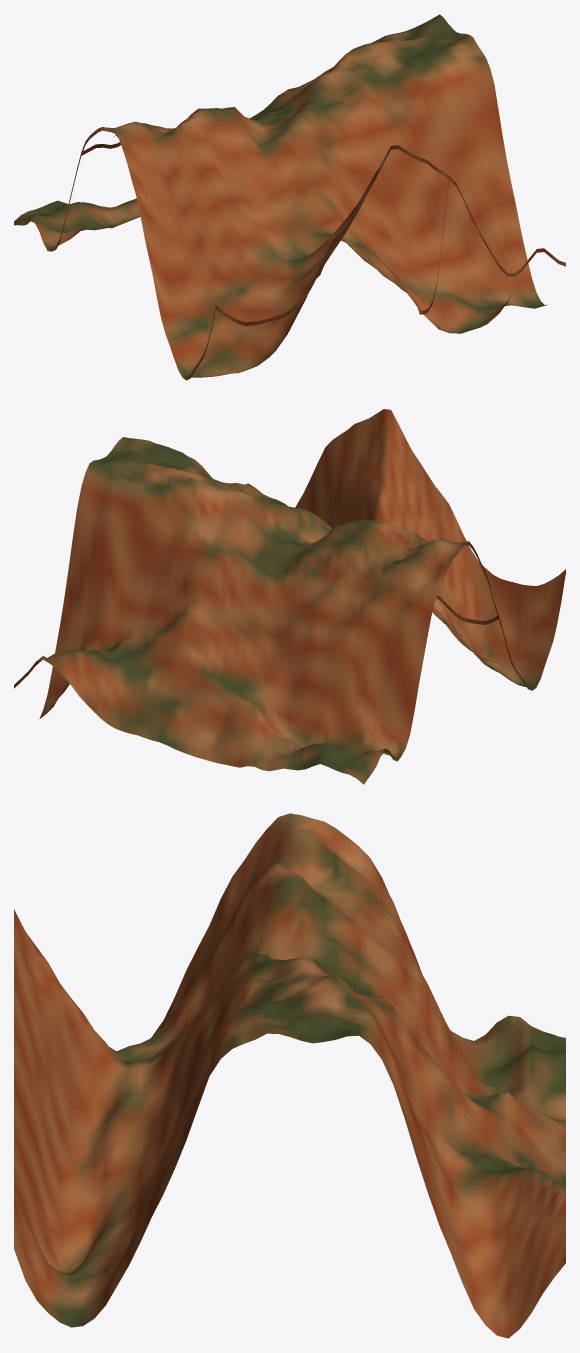
File: terrain-044.glb
The picture shows the model from 3 angles, top to bottom: view 1: azimuth 30°, elevation 25°; view 2: azimuth 150°, elevation 25°; view 3: azimuth 270°, elevation 25°; orthographic projection. The views are drawn at different scales.
Visible parts, largest first — view 1: terrain-044; view 2: terrain-044; view 3: terrain-044.
Boxes of the visible parts, <box> form: terrain-044: <box>14,14,565,380</box>; terrain-044: <box>14,409,565,784</box>; terrain-044: <box>14,813,565,1338</box>.
Size of the model in its own units: 384 by 240 by 384.
